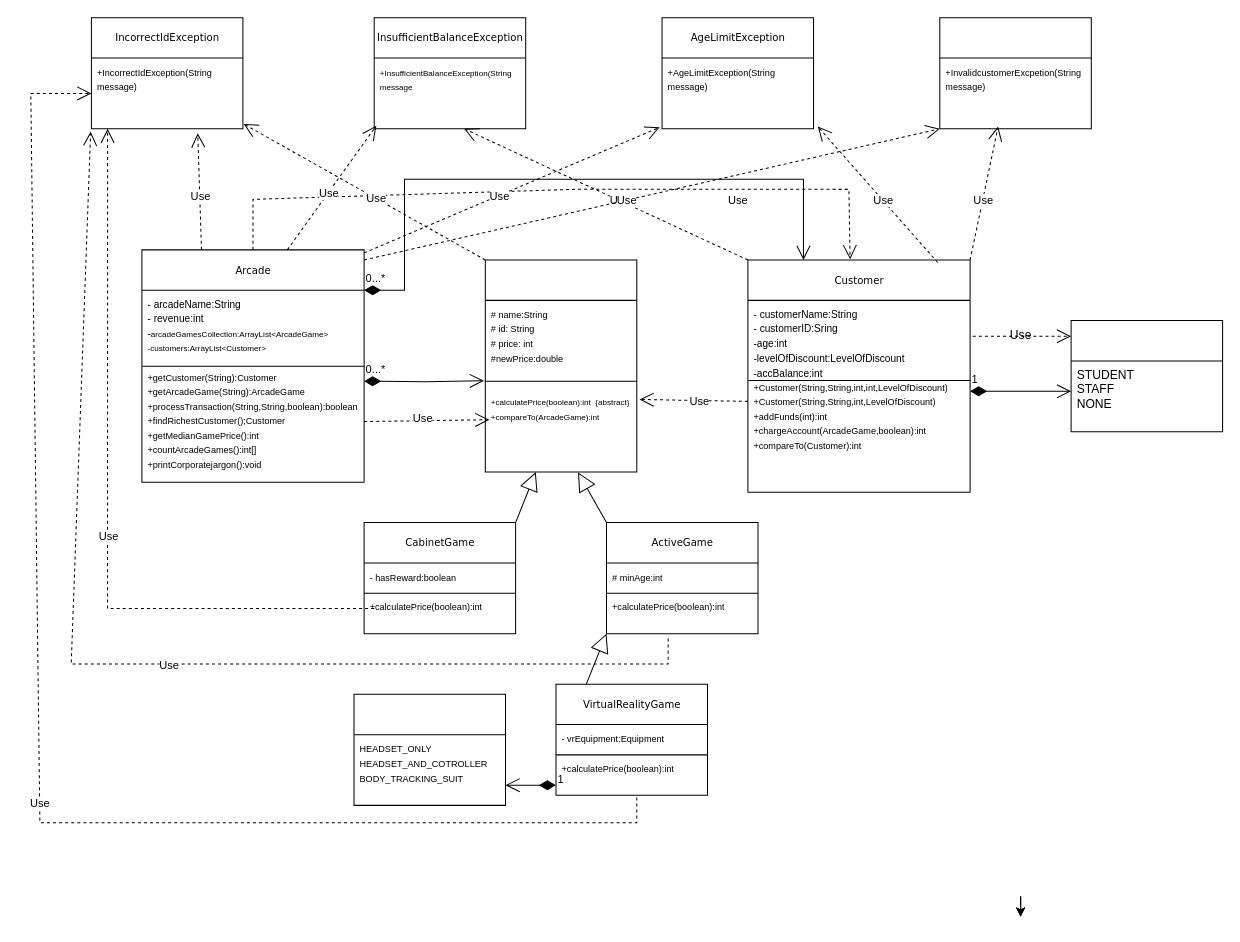
This 1240x942 diagram has some shape labels left out. The box of each missing label's shape, as (x1, y1, x2, y2) in pixels:
<<abstract>> ArcadeGame: (484, 259, 637, 472)
<<Enumeration>> Equipment: (353, 693, 506, 805)
<<Enumeration>> LevelOfDiscount: (1070, 320, 1223, 432)
InvalidCustomerException: (939, 17, 1091, 129)
